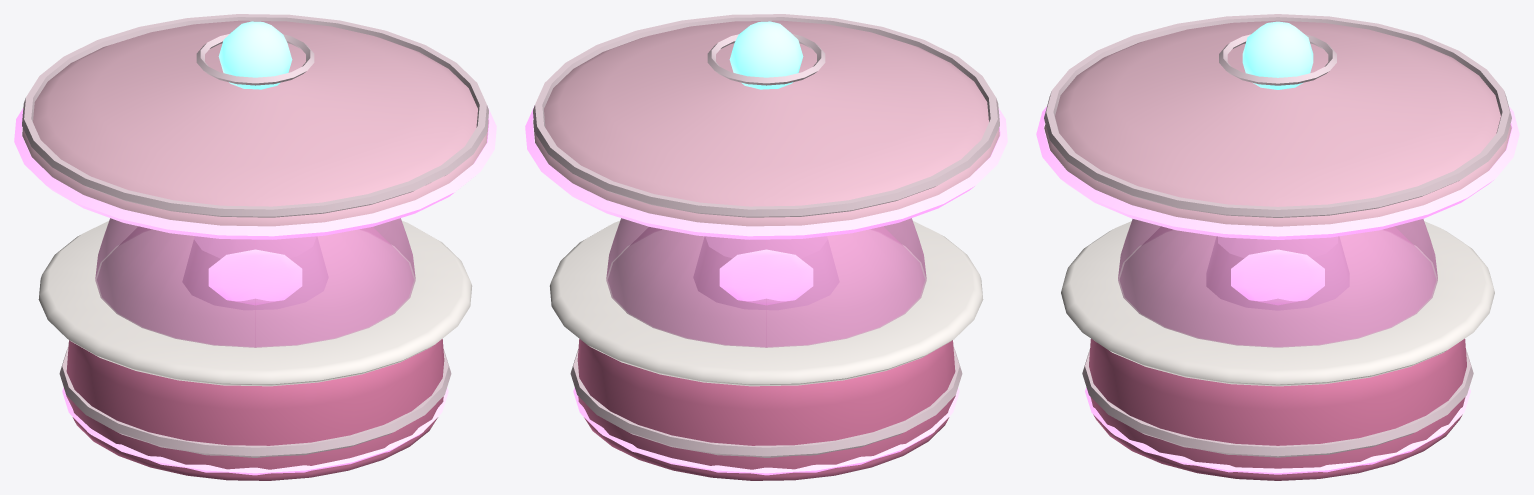
The model's file is kiosk_pod.glb.
3 views of the same model, side by side, from view 1: azimuth 30°, elevation 25°; view 2: azimuth 150°, elevation 25°; view 3: azimuth 270°, elevation 25° (orthographic).
Parts seen in each view (by area): view 1: kiosk_pod; view 2: kiosk_pod; view 3: kiosk_pod.
Part boxes in pixels (x1=…): kiosk_pod: x1=14, y1=14, x2=496, y2=480; kiosk_pod: x1=525, y1=14, x2=1007, y2=480; kiosk_pod: x1=1036, y1=14, x2=1519, y2=480.
Bounding box in the file's own units: 3.92 × 3.4 × 3.92.
